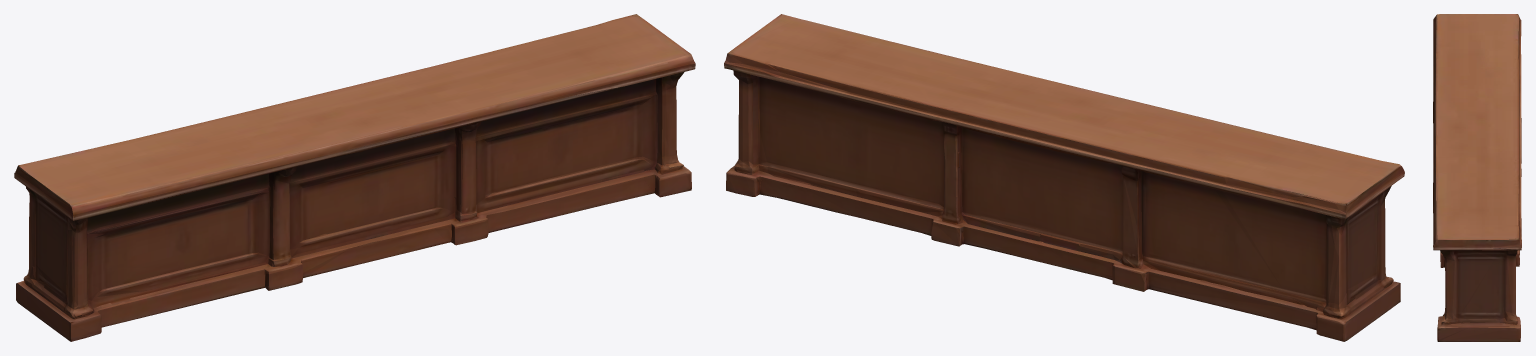
File: ballroom_bar_top.glb
3 views of the same model, side by side, from view 1: azimuth 30°, elevation 25°; view 2: azimuth 150°, elevation 25°; view 3: azimuth 270°, elevation 25° (orthographic). The views are drawn at different scales.
Parts seen in each view (by area): view 1: geometry_0; view 2: geometry_0; view 3: geometry_0.
Part boxes in pixels (x1,y1,x2,y2): geometry_0: [14, 14, 695, 341]; geometry_0: [724, 14, 1404, 341]; geometry_0: [1433, 14, 1521, 341].
Size of the model in its own units: 0.9997 by 0.2106 by 0.1654.
1 material, 1 textured.
